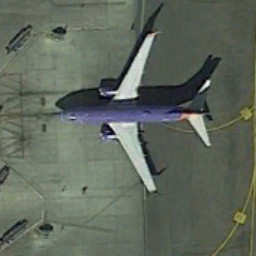Airplane: (42, 22, 224, 209)
